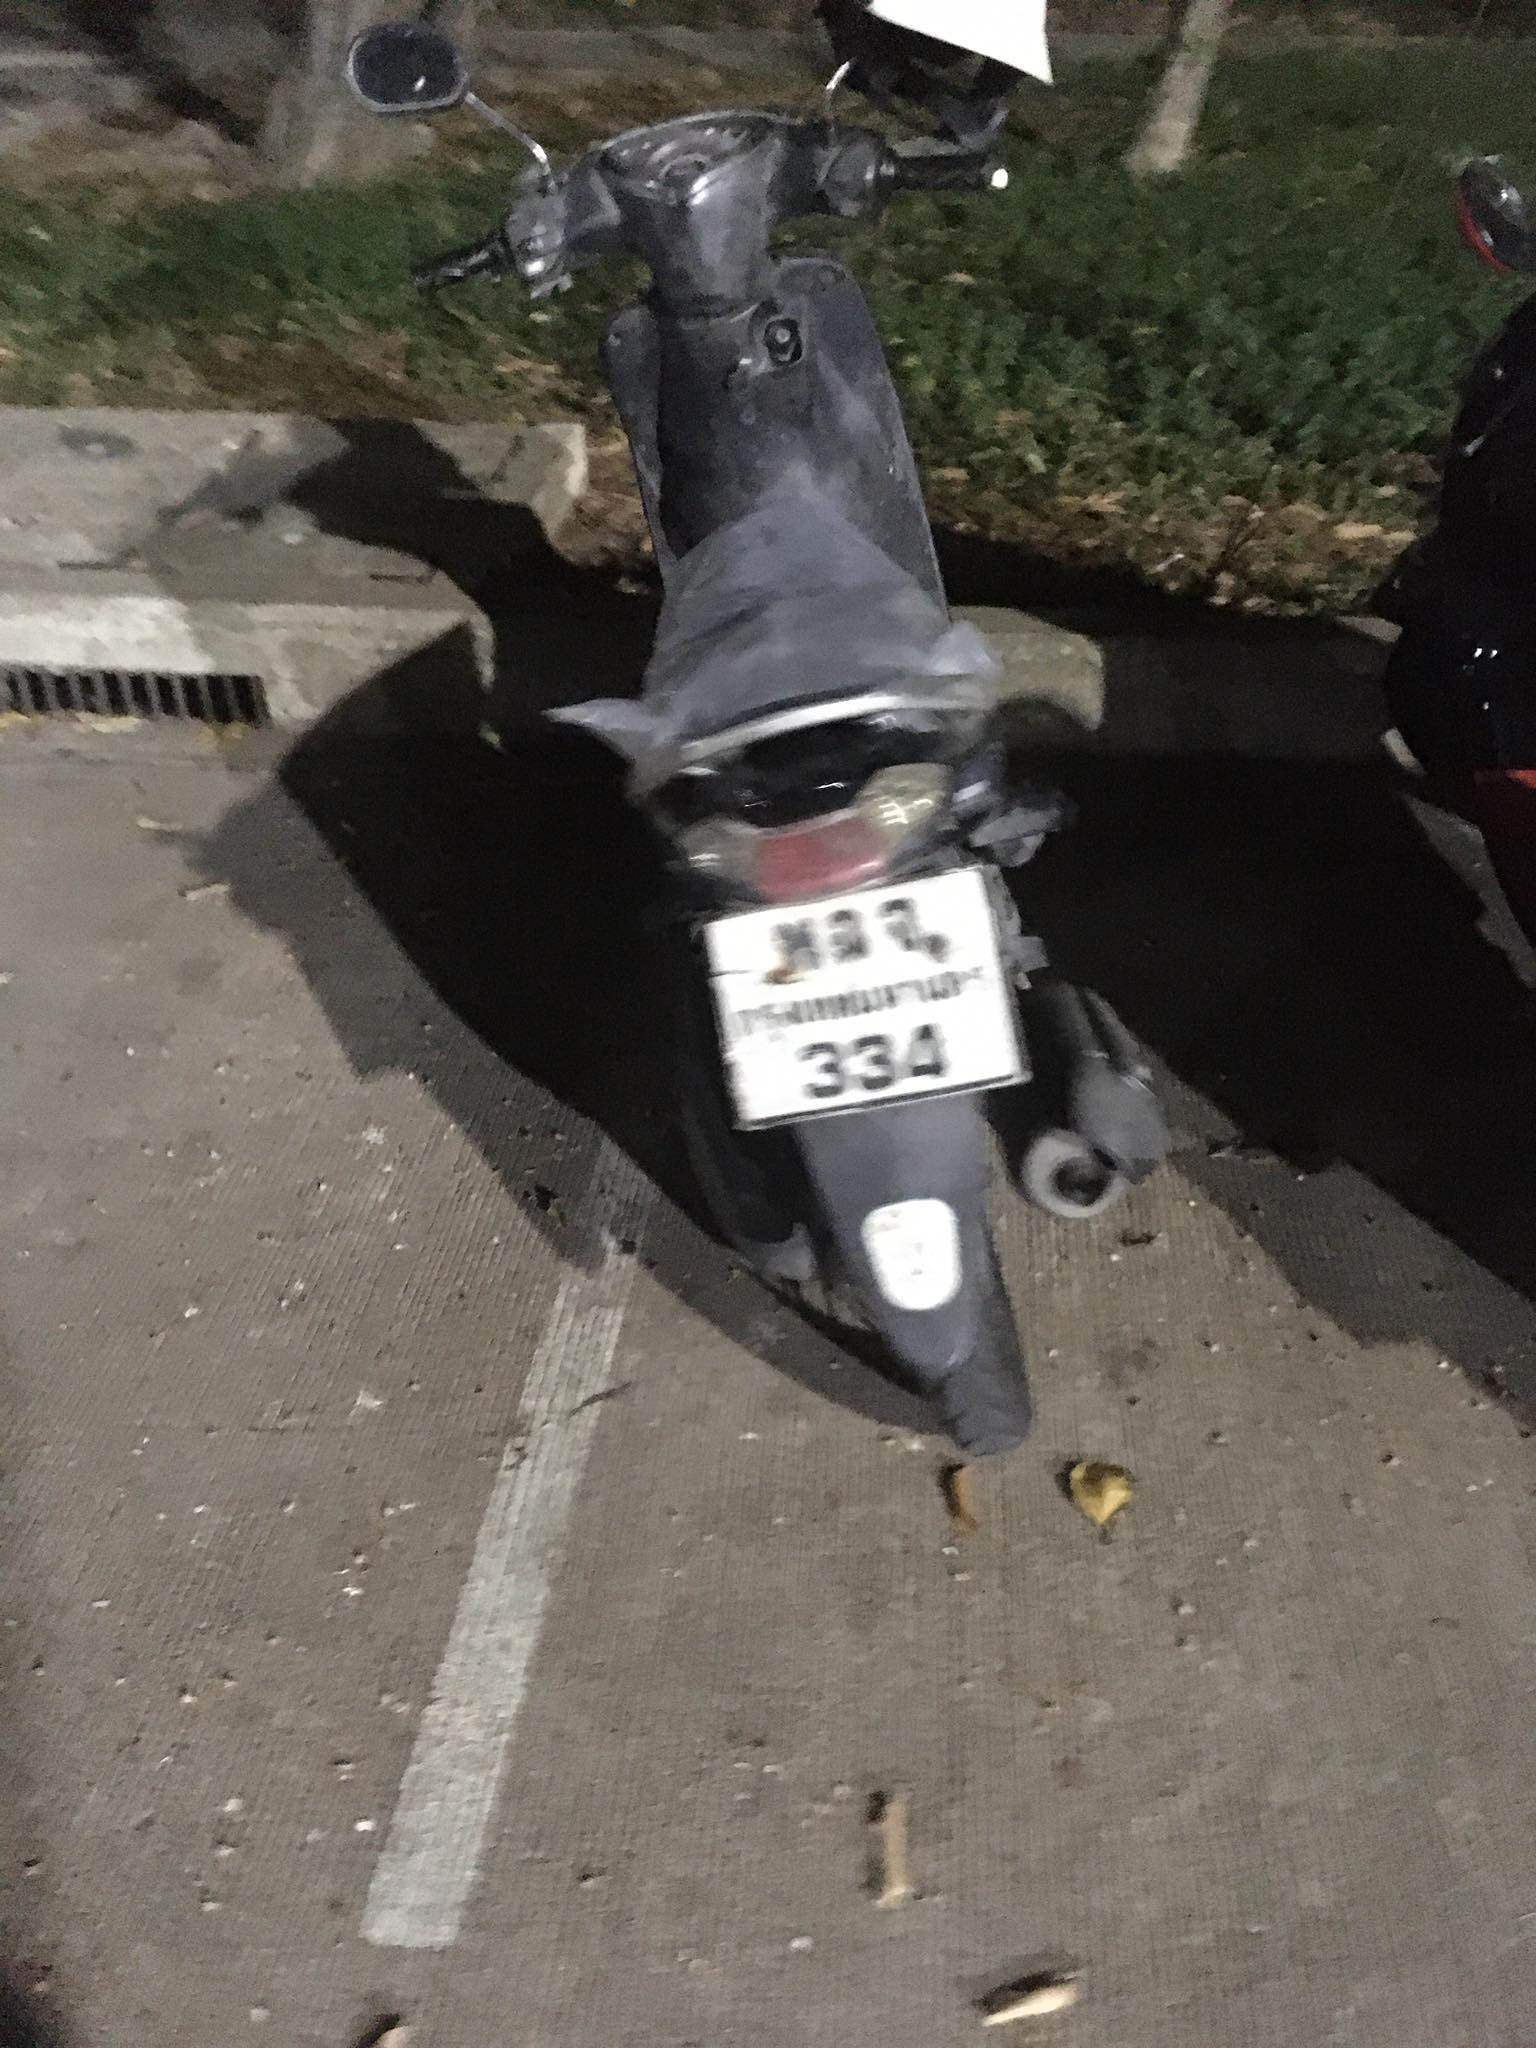line1: (766, 885, 929, 972)
line2: (721, 964, 1004, 1039)
line3: (794, 1030, 954, 1114)
